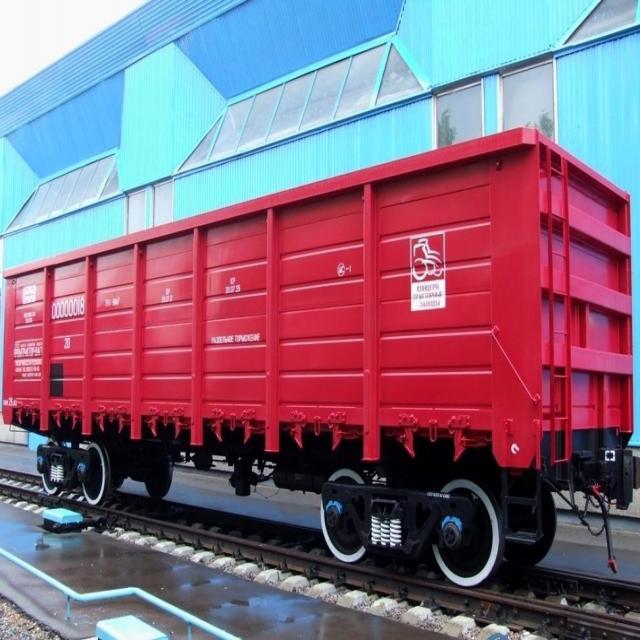gondola: (0, 115, 640, 598)
